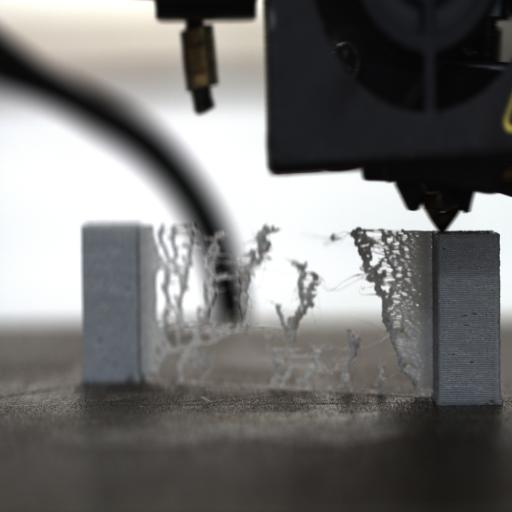stringing: (340, 228, 433, 396), (202, 220, 274, 332), (153, 220, 201, 345)
